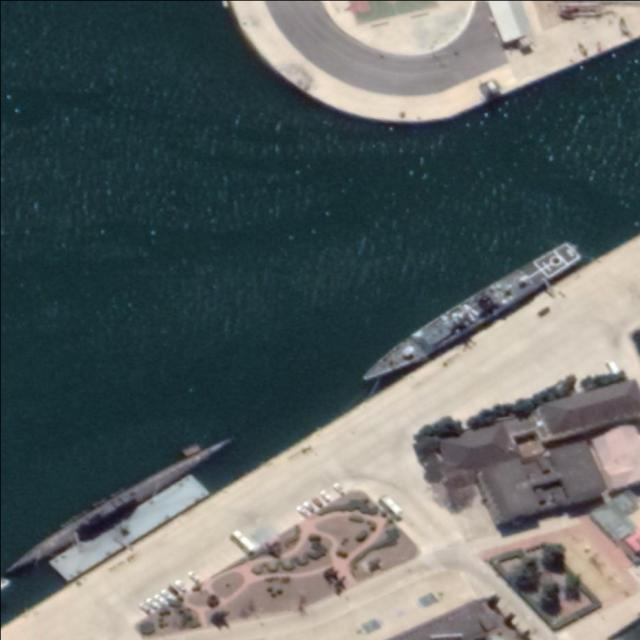Auxiliary Ships: (354, 235, 582, 391)
Submarine: (10, 435, 235, 573)
